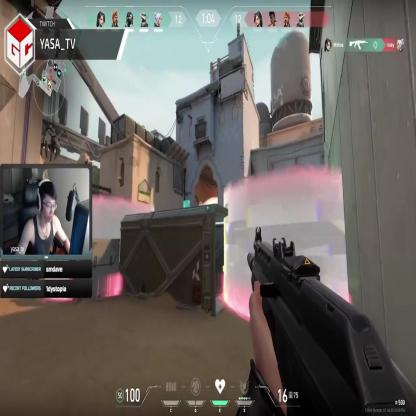enemy: (198, 201, 204, 235)
enemy_head: (199, 201, 202, 208)
